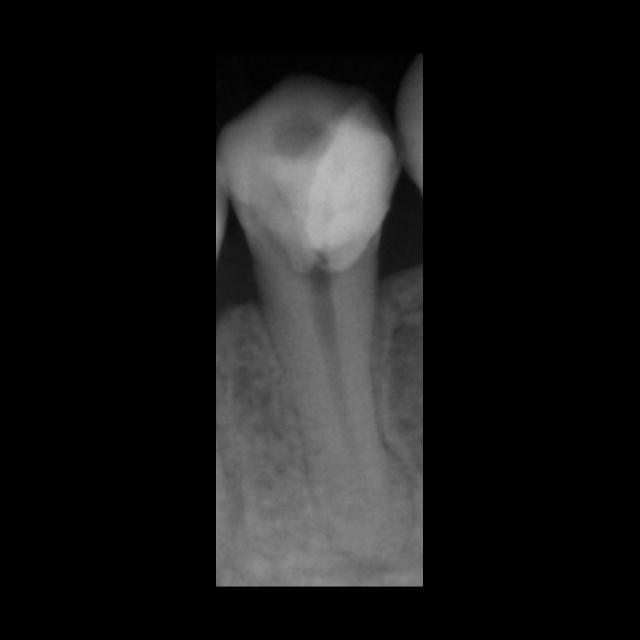tooth: (217, 76, 416, 571)
